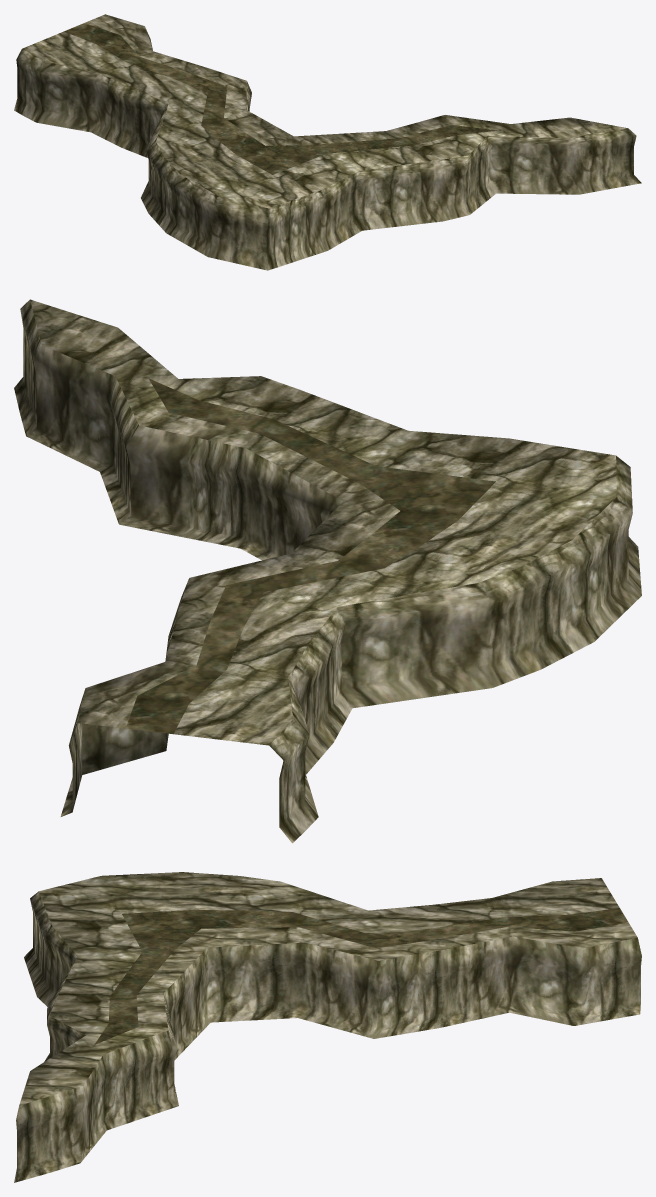
The model's file is CB_NEWPLAYSURFACE_CB_PLAYSURFACE88.fbx.
3 views of the same model, one above another, from view 1: azimuth 30°, elevation 25°; view 2: azimuth 150°, elevation 25°; view 3: azimuth 270°, elevation 25° (orthographic). The views are drawn at different scales.
Visible parts, largest first — view 1: CB_NEWPLAYSURFACE_CB_PLAYSURFACE88; view 2: CB_NEWPLAYSURFACE_CB_PLAYSURFACE88; view 3: CB_NEWPLAYSURFACE_CB_PLAYSURFACE88.
Boxes of the visible parts, bbox=[...] form: CB_NEWPLAYSURFACE_CB_PLAYSURFACE88: bbox=[14, 14, 641, 270]; CB_NEWPLAYSURFACE_CB_PLAYSURFACE88: bbox=[14, 299, 641, 843]; CB_NEWPLAYSURFACE_CB_PLAYSURFACE88: bbox=[14, 872, 641, 1182].
Bounding box in the file's own units: 259134 × 34996 × 276341.
Materials: 3 (3 with a texture image).
